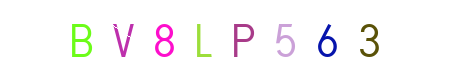3: (331, 0, 411, 80)
5: (208, 0, 288, 80)
6: (287, 0, 367, 80)
8: (153, 0, 233, 80)
B: (77, 0, 157, 80)
L: (174, 0, 254, 80)
P: (196, 0, 276, 80)
V: (124, 0, 204, 80)
